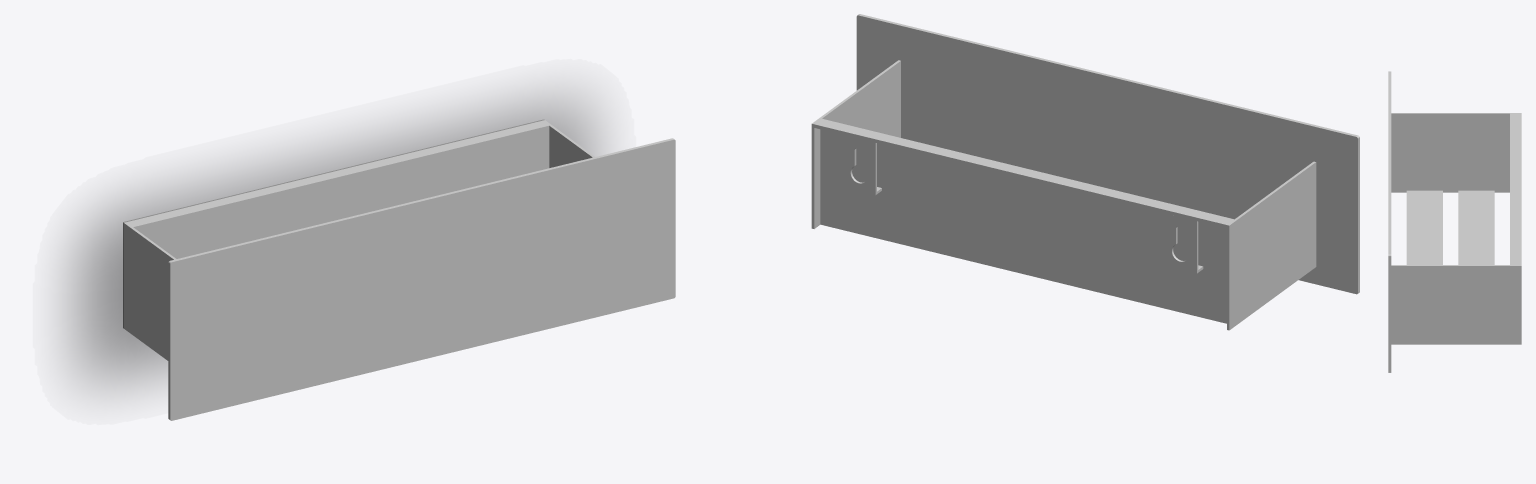
The model's file is skyline-mono.decf0df679.ar.glb.
3 renders of one model, left to right at view 1: azimuth 30°, elevation 25°; view 2: azimuth 150°, elevation 25°; view 3: azimuth 270°, elevation 25°, orthographic. The views are drawn at different scales.
Visible parts, largest first — view 1: NAUO1, object 2; view 2: NAUO1; view 3: NAUO1.
Boxes of the visible parts, x1,y1,x2,y2 form: NAUO1: (123,119,675,420); object 2: (66,96,602,387); NAUO1: (811,14,1359,330); NAUO1: (1388,71,1521,372).
Bounding box in the file's own units: 0.38 × 0.17 × 0.092.
Materials: 2 (1 with a texture image).
